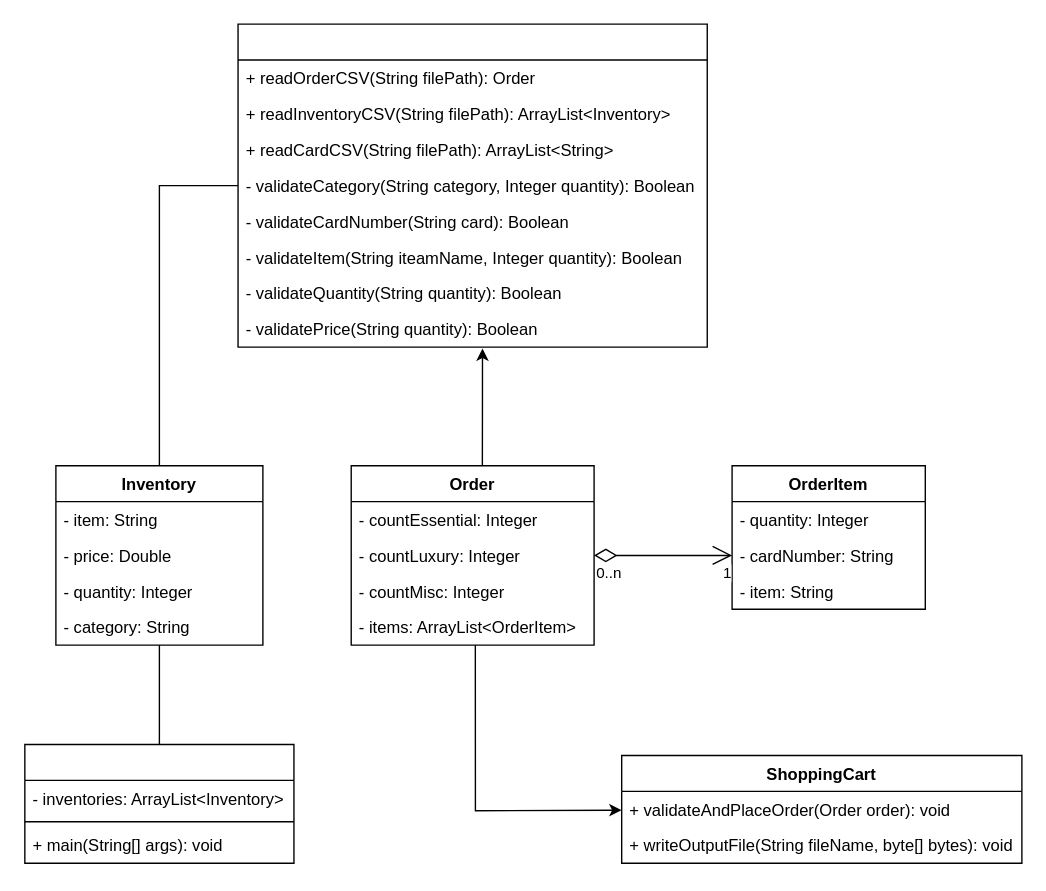
This 1046x891 diagram has some shape labels left out. Each missing label, with the box of its shape:
Billing: (23, 743, 294, 863)
FileUtility: (237, 23, 707, 347)
